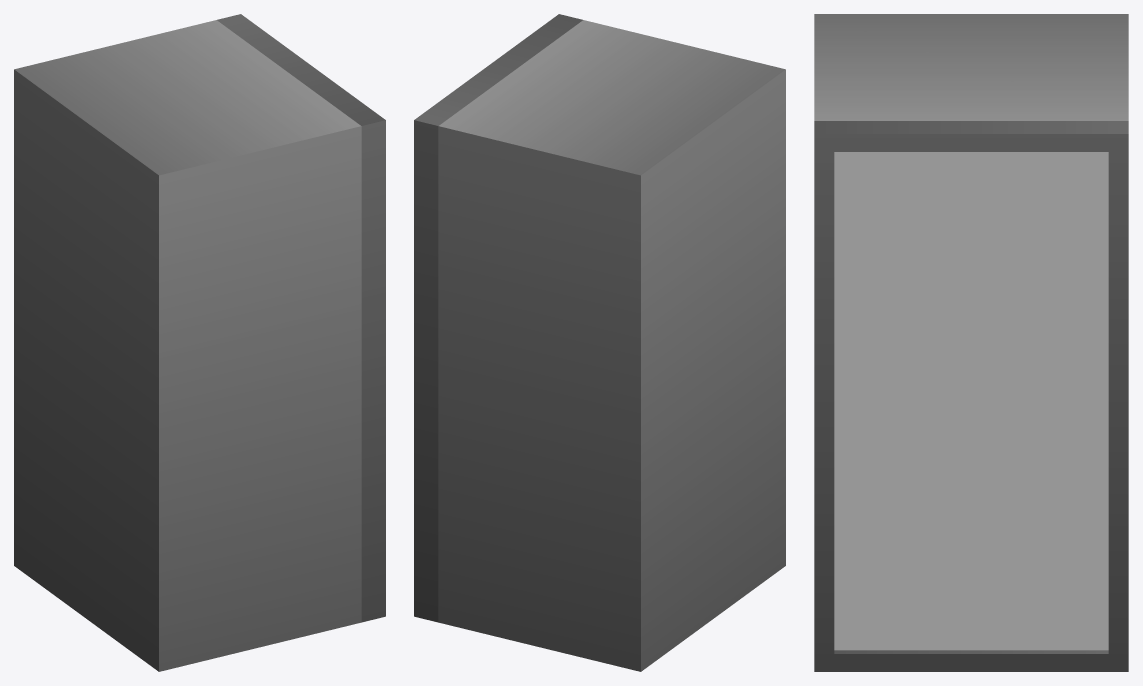
The model's file is DoubleCooked_Fridge.fbx.
The picture shows the model from 3 angles, left to right: view 1: azimuth 30°, elevation 25°; view 2: azimuth 150°, elevation 25°; view 3: azimuth 270°, elevation 25°; orthographic projection. The views are drawn at different scales.
Parts seen in each view (by area): view 1: DoubleCooked_Fridge, DoubleCooked_Fridge_Door; view 2: DoubleCooked_Fridge, DoubleCooked_Fridge_Door; view 3: DoubleCooked_Fridge_Door_Glass, DoubleCooked_Fridge_Door, DoubleCooked_Fridge.
Part boxes in pixels (x1=…): DoubleCooked_Fridge: x1=14, y1=20, x2=361, y2=671; DoubleCooked_Fridge_Door: x1=217, y1=14, x2=385, y2=622; DoubleCooked_Fridge: x1=438, y1=20, x2=785, y2=671; DoubleCooked_Fridge_Door: x1=414, y1=14, x2=582, y2=622; DoubleCooked_Fridge_Door_Glass: x1=834, y1=152, x2=1108, y2=650; DoubleCooked_Fridge_Door: x1=814, y1=121, x2=1128, y2=671; DoubleCooked_Fridge: x1=814, y1=14, x2=1128, y2=120.
Bounding box in the file's own units: 60.71 × 127 × 67.2.
1 material, 1 textured.
